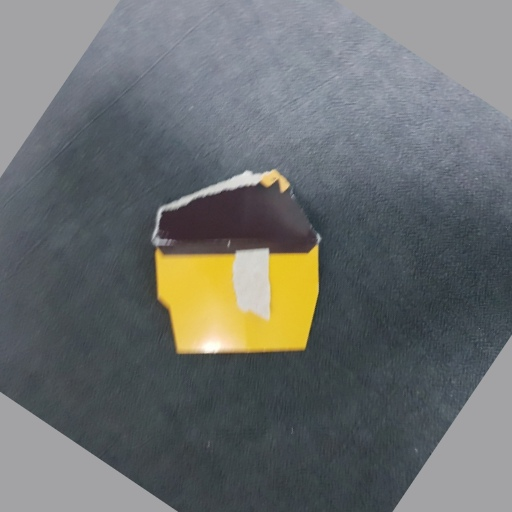Paper_2: (159, 191, 337, 368)
